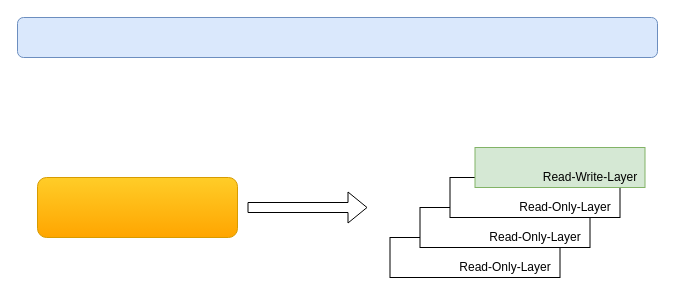
Image size: 675x295. Some labels were removed from this diagram. Each missing label, with the box of its shape:
container Union File System: (36, 176, 238, 238)
容器: (16, 16, 658, 58)
